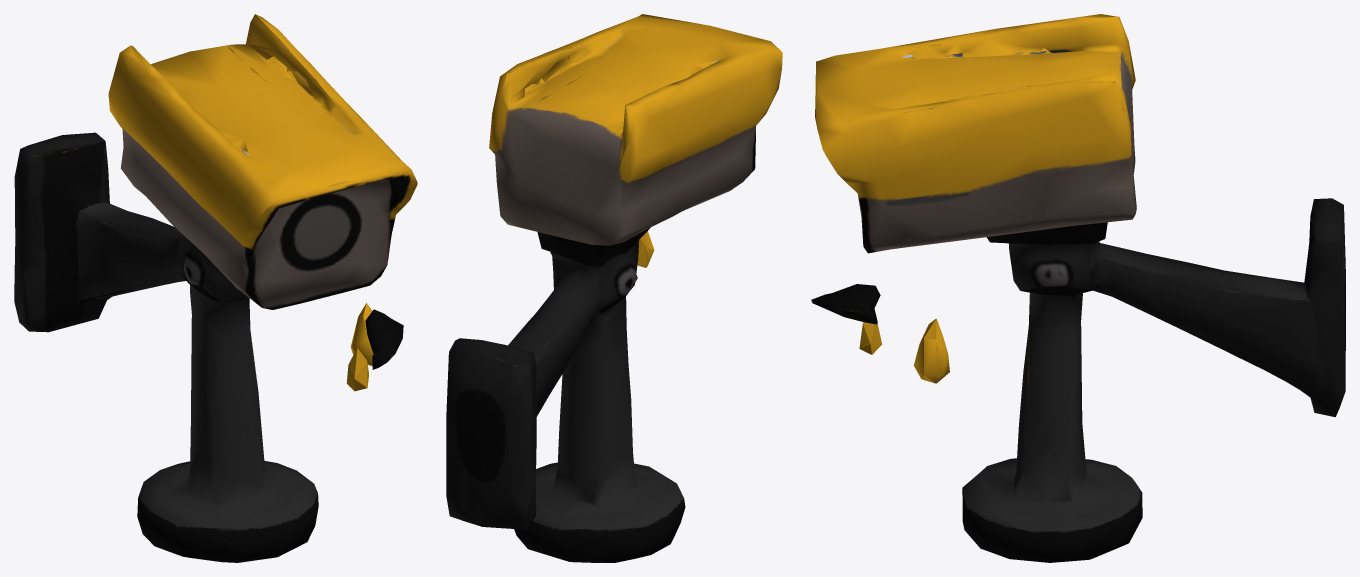
Rendered from camera-disabled.glb.
3 views of the same model, side by side, from view 1: azimuth 30°, elevation 25°; view 2: azimuth 150°, elevation 25°; view 3: azimuth 270°, elevation 25° (orthographic). The views are drawn at different scales.
Parts seen in each view (by area): view 1: geometry_0.001; view 2: geometry_0.001; view 3: geometry_0.001.
Boxes of the visible parts, x1,y1,x2,y2 form: geometry_0.001: (14, 14, 417, 562); geometry_0.001: (446, 14, 782, 562); geometry_0.001: (811, 14, 1345, 562).
Bounding box in the file's own units: 0.3886 × 0.9919 × 0.9948.
Materials: 1 (1 with a texture image).
